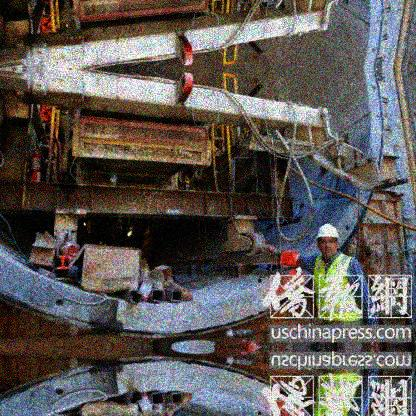helmet: (315, 221, 341, 256)
